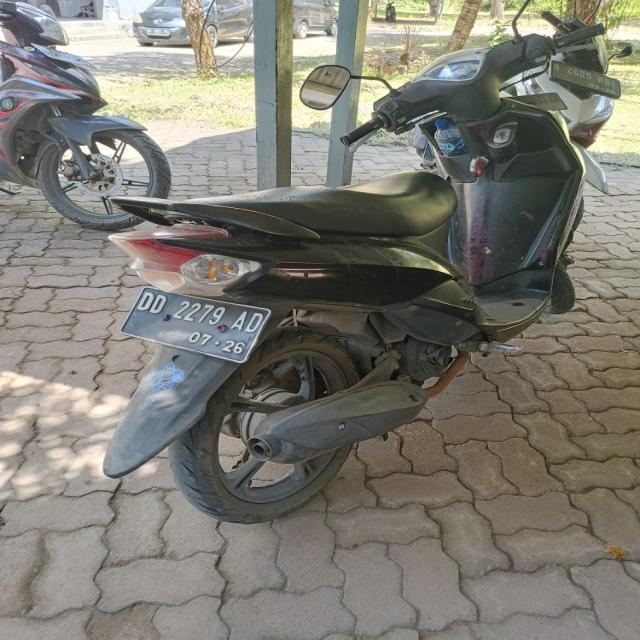plates: (124, 290, 271, 355)
